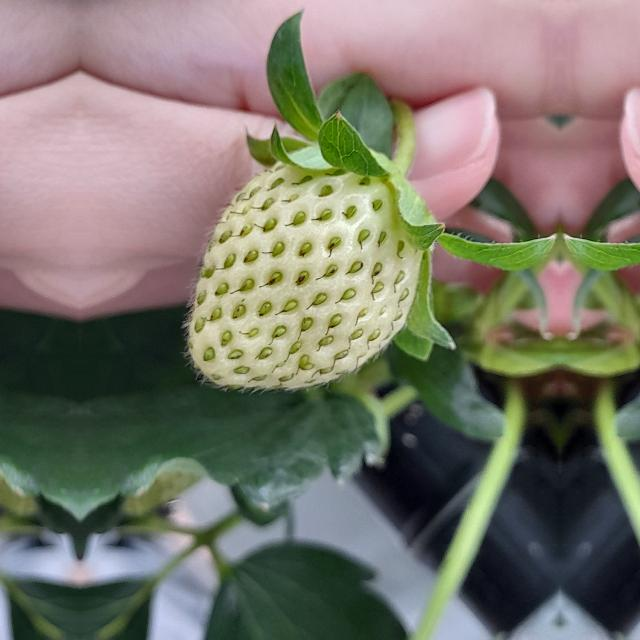Health_25: (180, 160, 422, 394)
